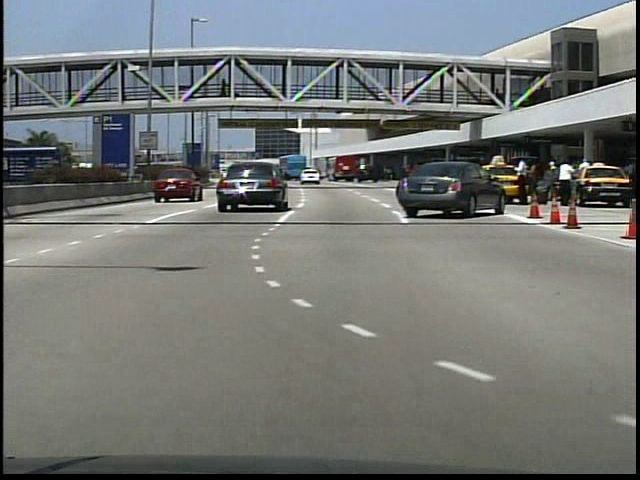person: (554, 158, 578, 209), (512, 157, 531, 210), (544, 159, 563, 204), (219, 79, 231, 102)
